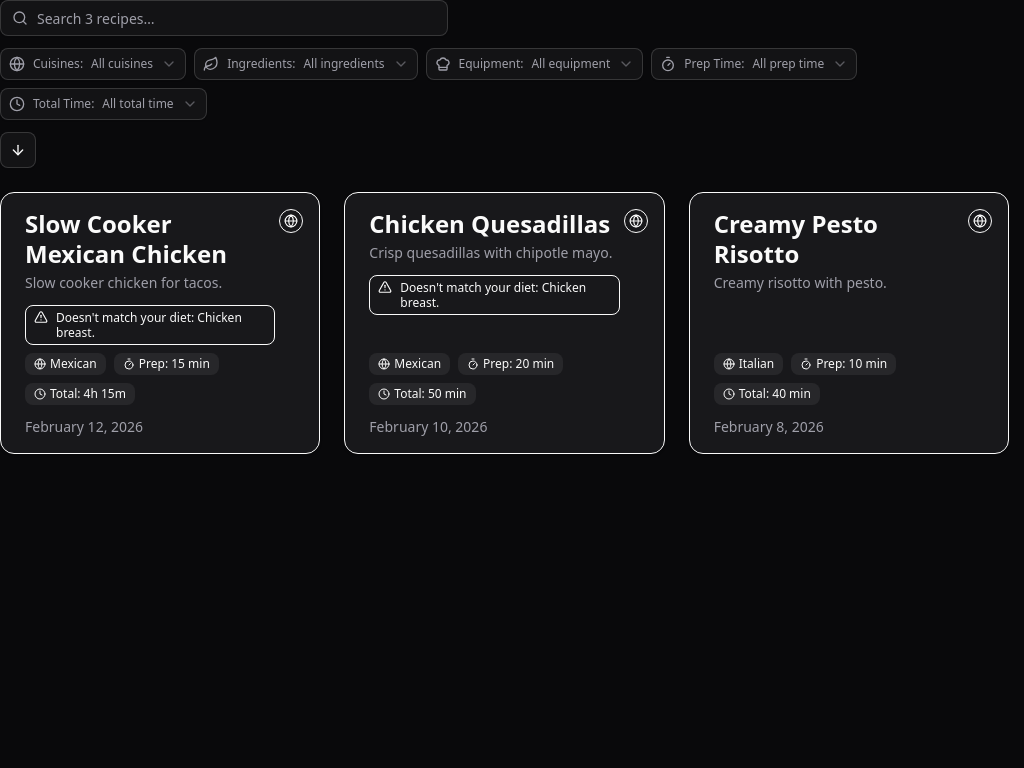
Test case: RecipeList › shows an equipment filter with cookware options
Click the dropdown "Equipment:" at (534, 64), box [426, 48, 643, 80]
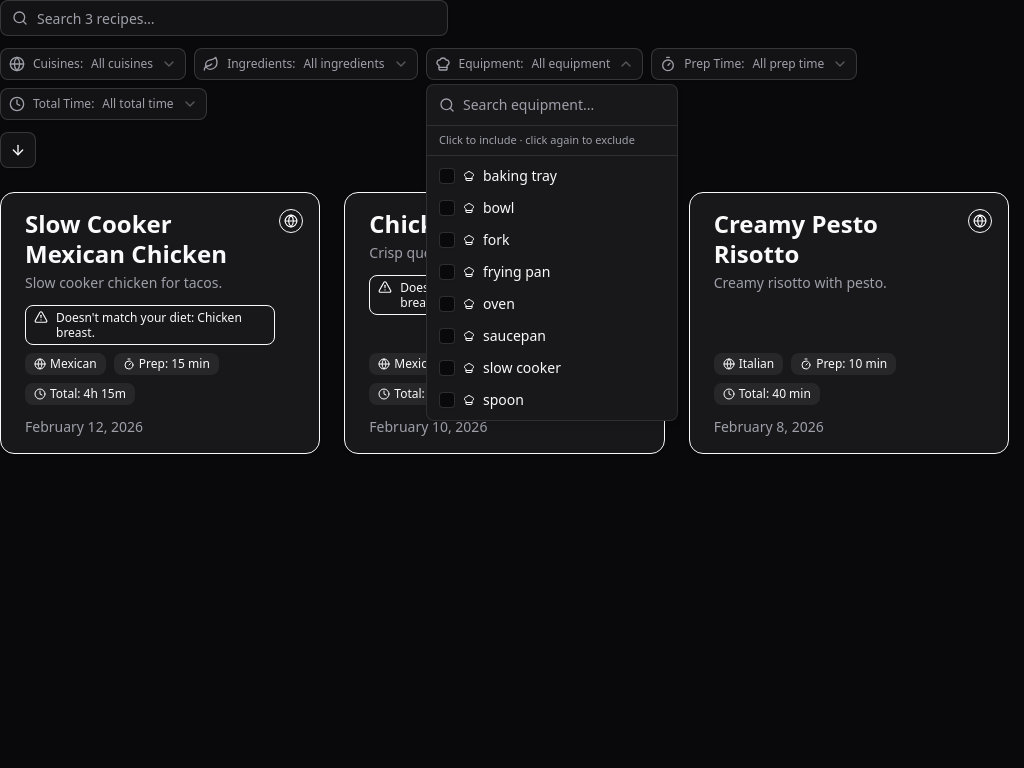
Check: the button "fork" is shown, box [431, 224, 673, 256]
Check: the button "slow cooker" is shown, box [431, 352, 673, 384]
Check: the button "saucepan" is shown, box [431, 320, 673, 352]
